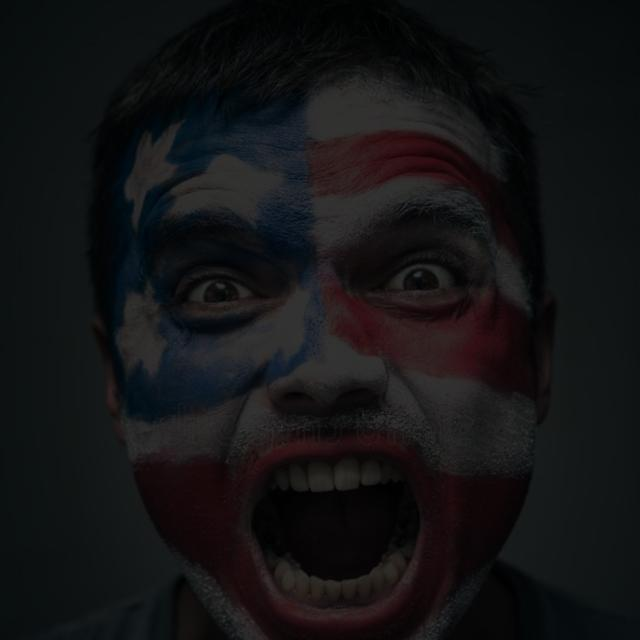angry: (85, 112, 595, 639)
